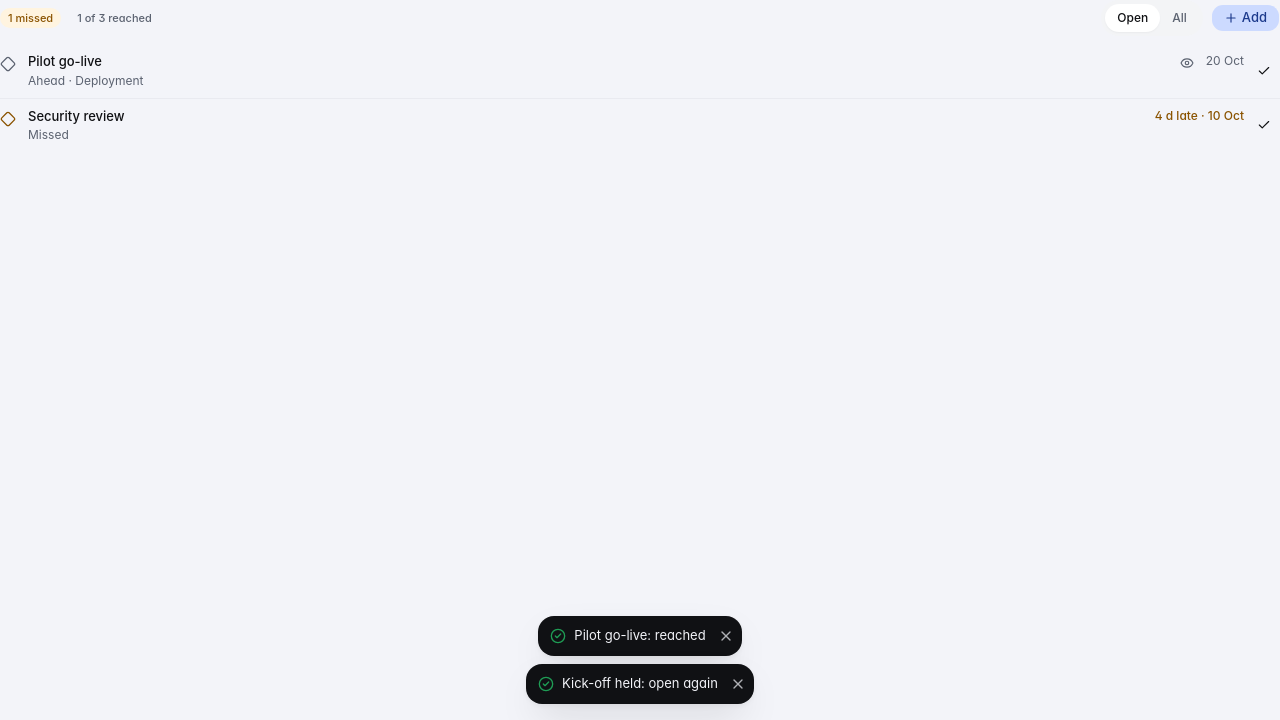
it: MilestonesPanel › adds a milestone: name, a day from the calendar, a stage, and whether the customer sees it
Click the button "Add": (1245, 18) x1=1211 y1=4 x2=1279 y2=32
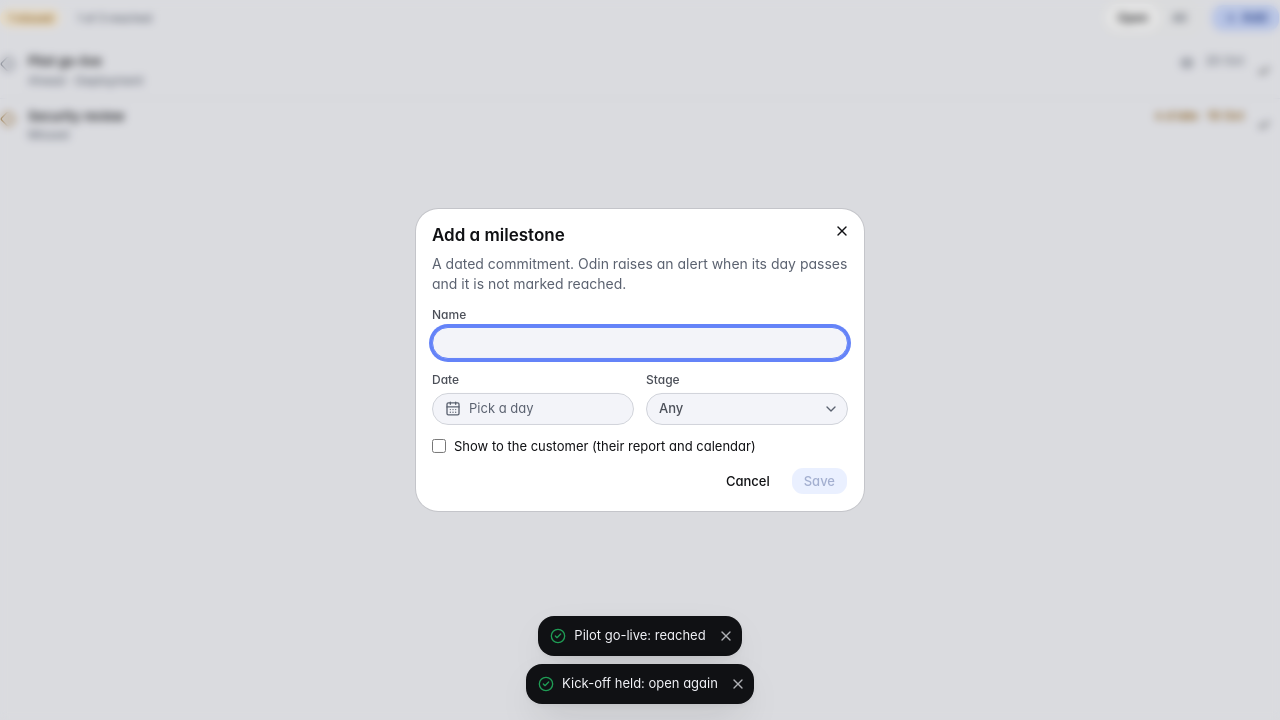
In the field labelled "Name": (640, 343) x1=432 y1=327 x2=848 y2=359, type "UAT sign-off"
Click the button with aria-label "Date: not set": (533, 408) x1=432 y1=392 x2=634 y2=424
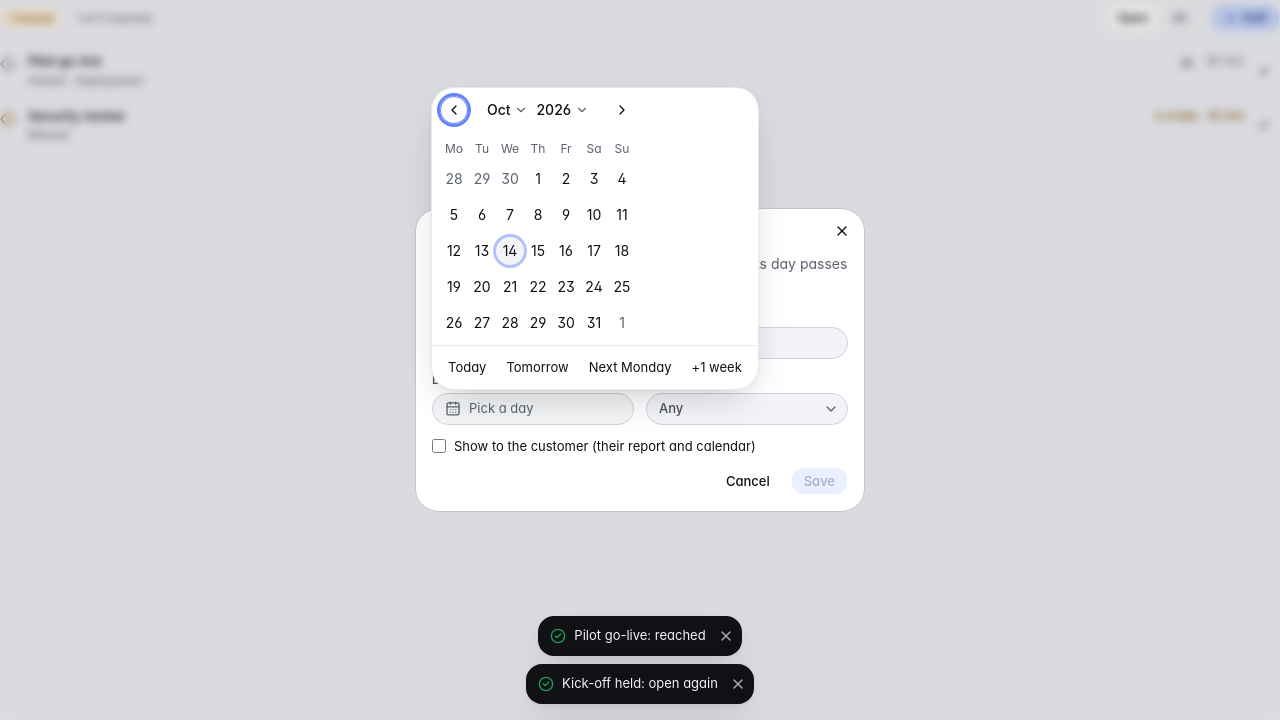
Click the button named "October 28th, 2026": (510, 323) x1=496 y1=309 x2=524 y2=337
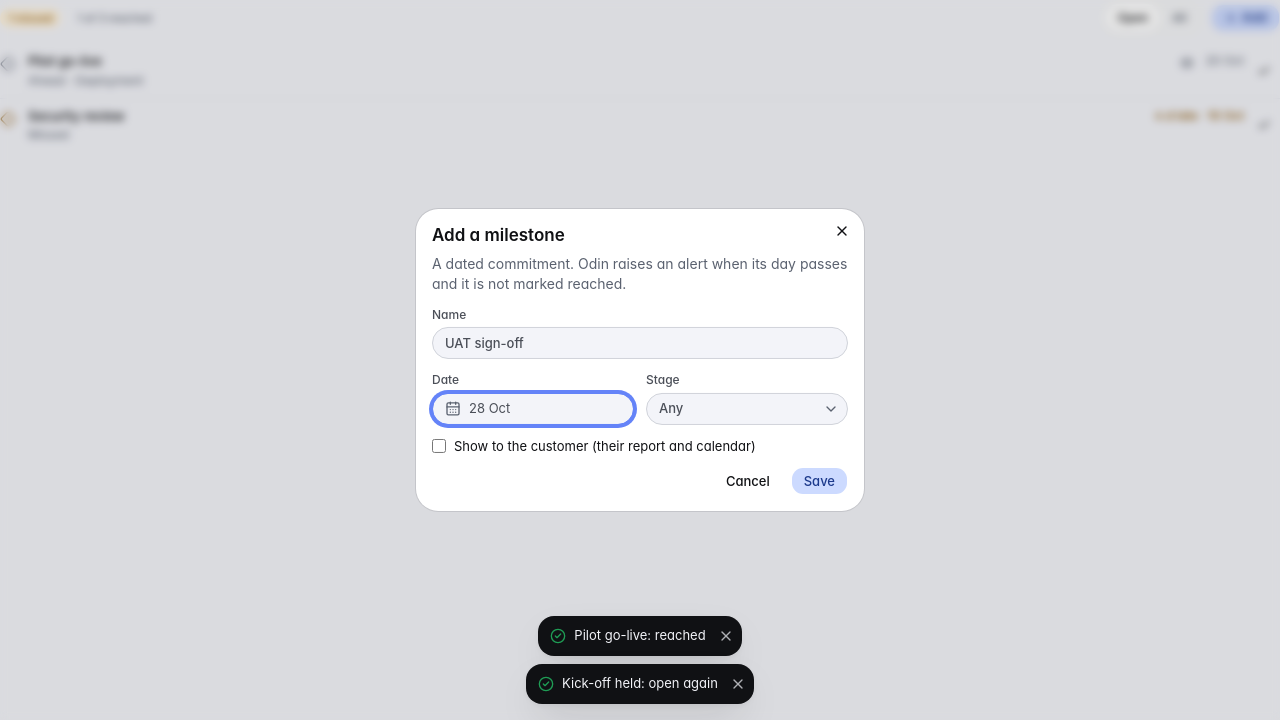
Select "Deployment" in the dropdown labelled "Stage": (747, 408) x1=646 y1=392 x2=848 y2=424
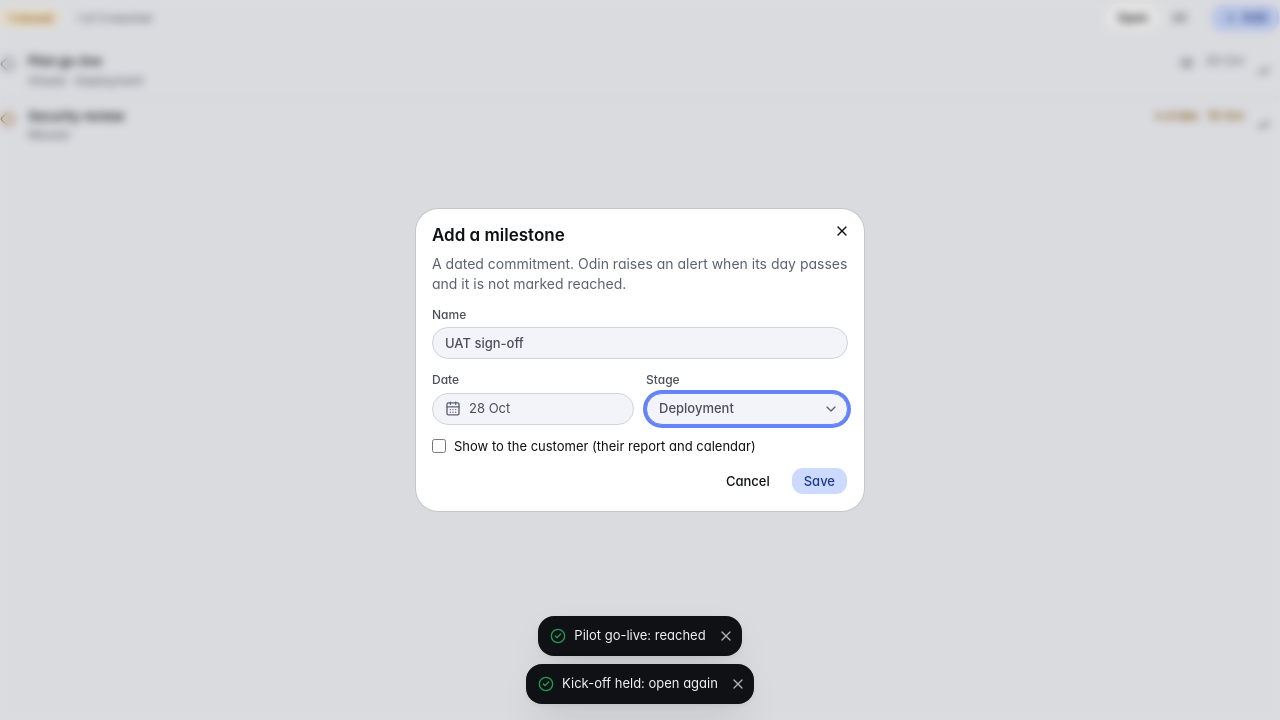
Click the checkbox labelled "Show to the customer (their report and calendar)": (439, 446) x1=432 y1=439 x2=446 y2=453
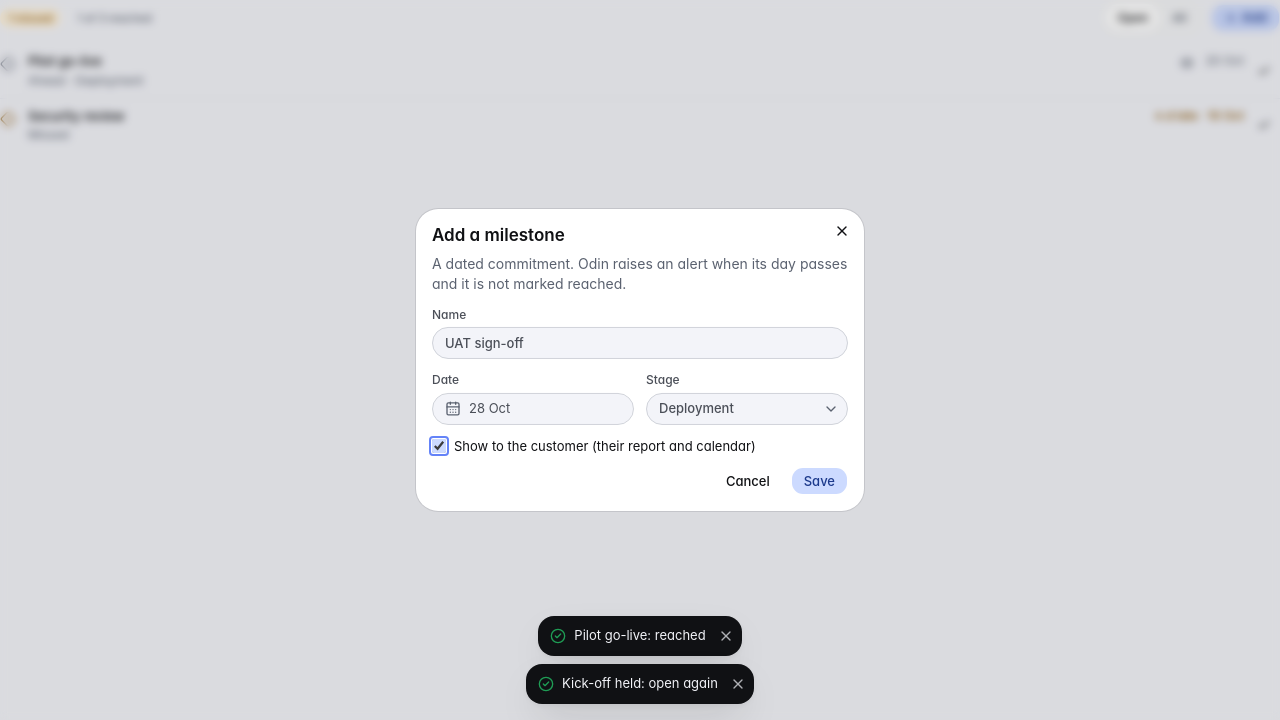
Click the button "Save": (819, 481) x1=791 y1=467 x2=848 y2=495
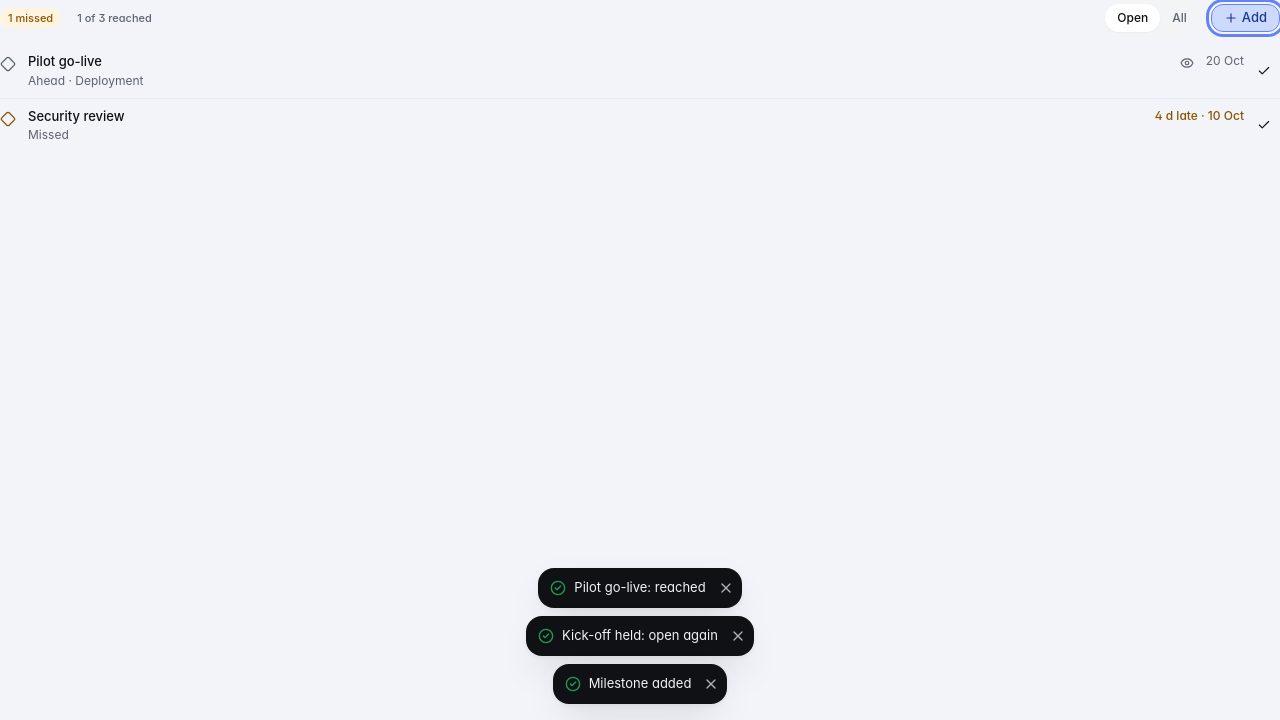
Check: the text "Milestone added" is shown, box x1=589 y1=674 x2=691 y2=694
